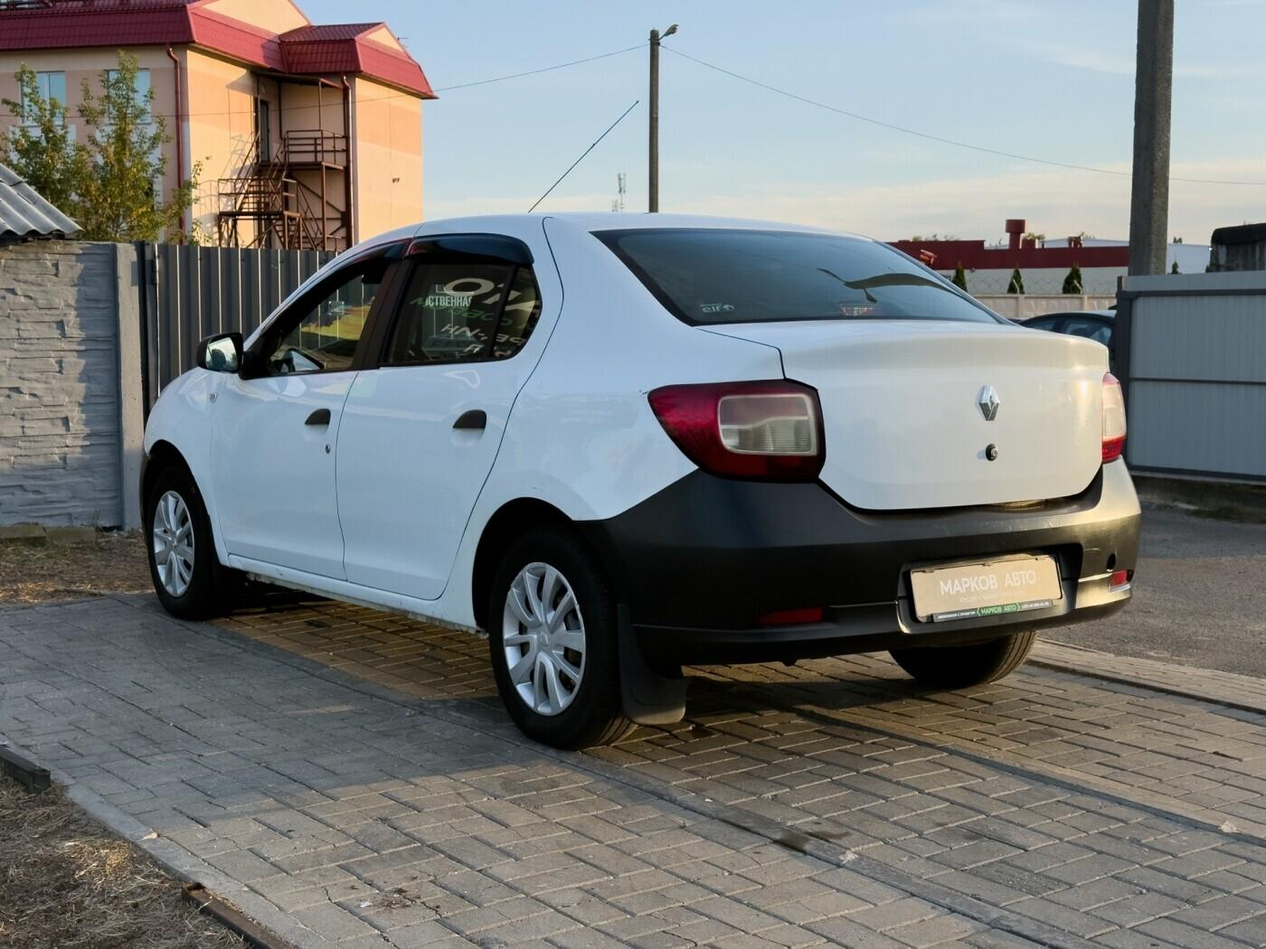Logan_2018: (134, 210, 1165, 755)
